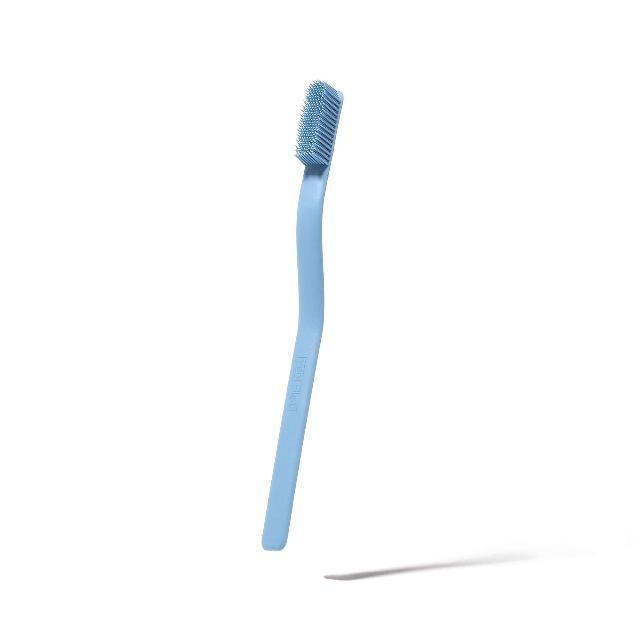toothbrush: (221, 45, 353, 608)
